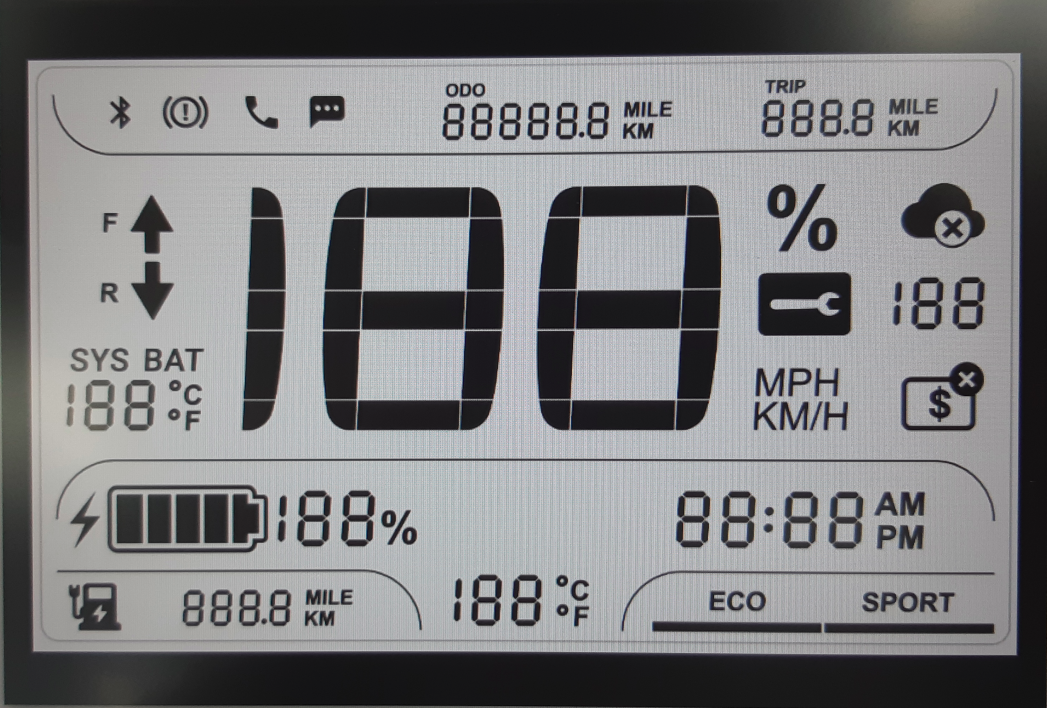bluetooth_on: (104, 93, 136, 132)
braking_on: (160, 93, 210, 130)
calling_on: (240, 90, 282, 132)
connection_lost: (898, 179, 989, 252)
error_code: (753, 270, 855, 338)
low_battery: (63, 577, 128, 635)
sms_on: (307, 93, 348, 132)
vin_id: (896, 359, 986, 434)
